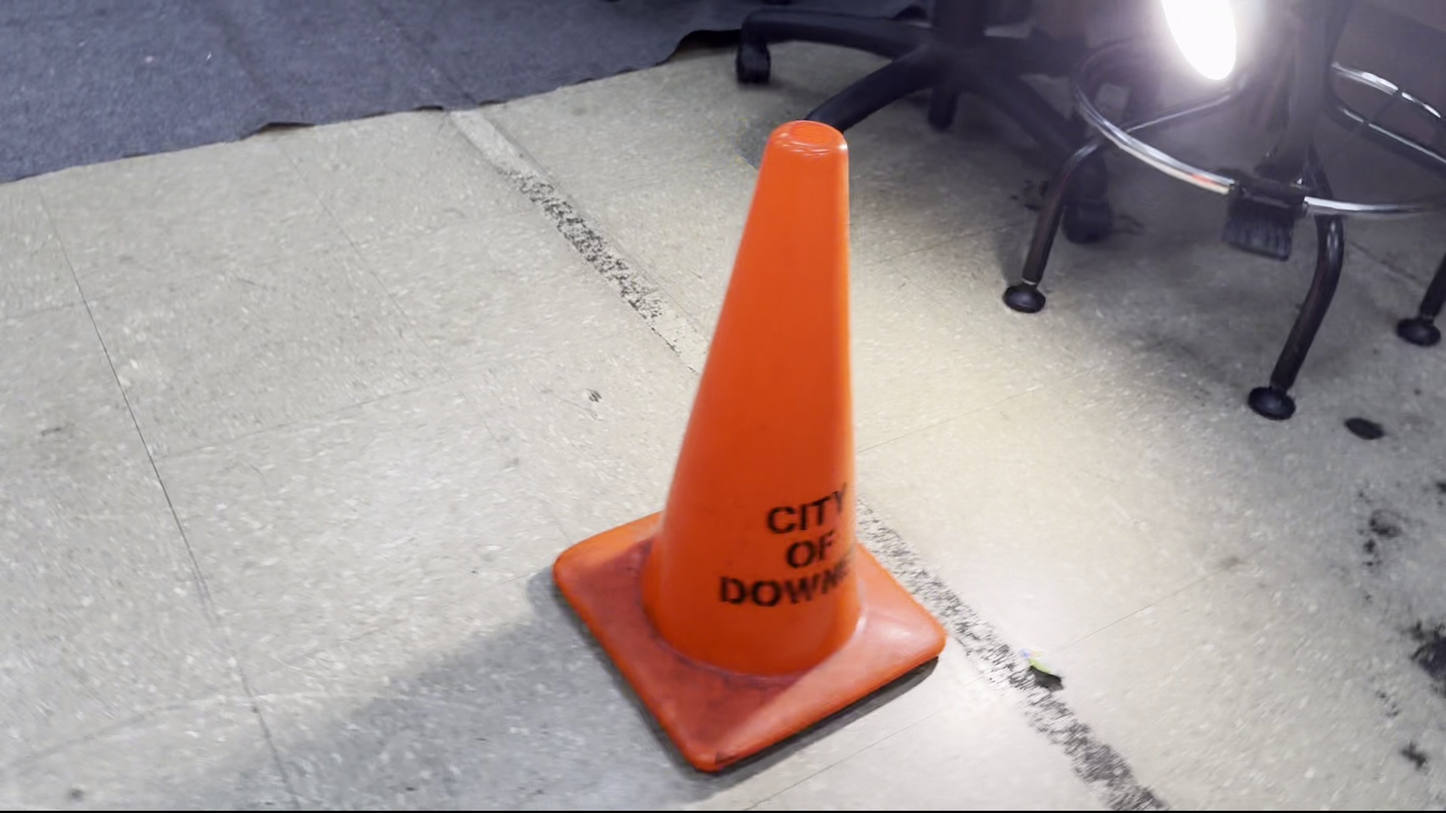traffic_cone: (551, 118, 947, 775)
